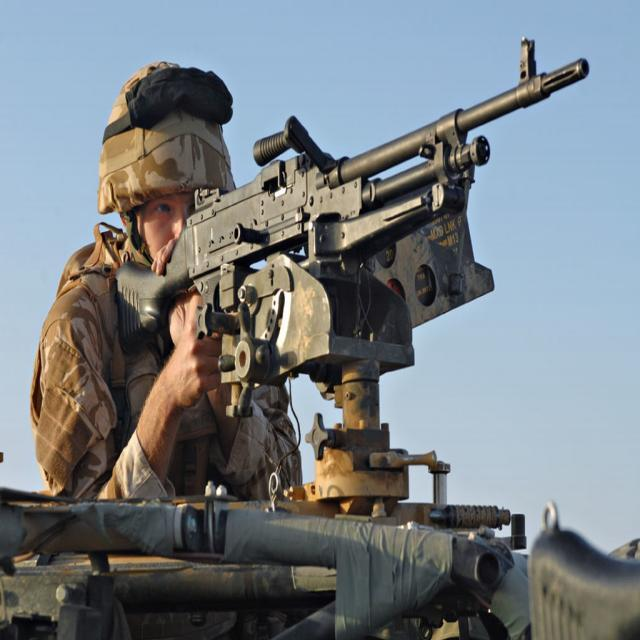weapon: (69, 78, 616, 562)
